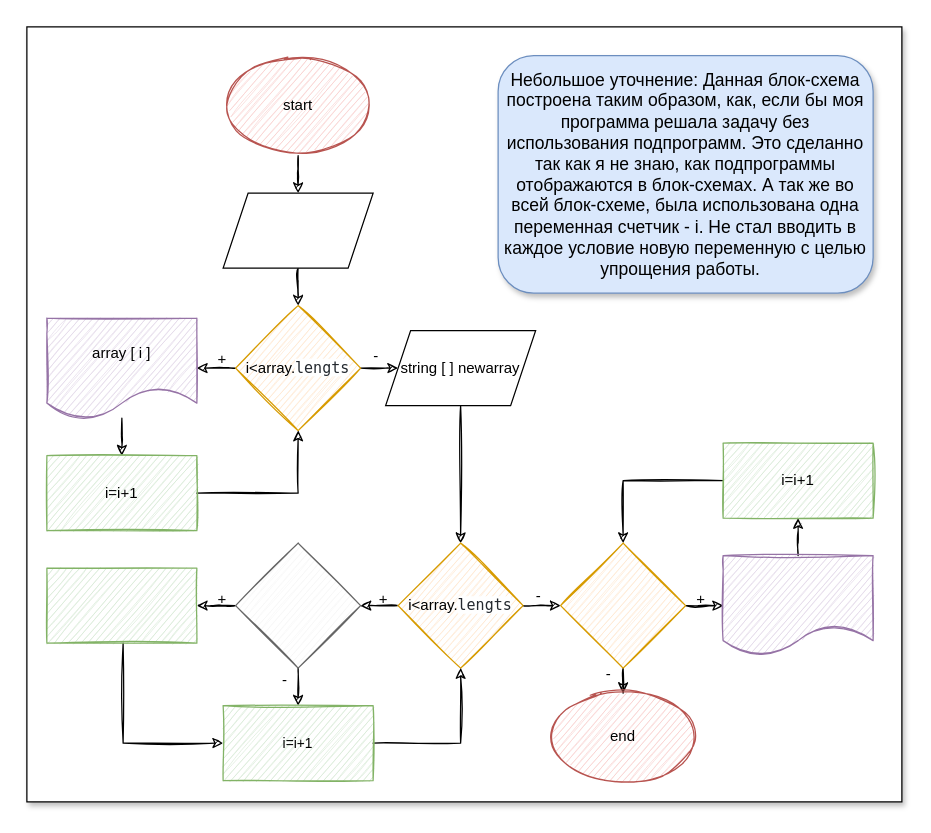
This 931x833 diagram has some shape labels left out. Here are the shapes that lost their labels. From the top down, the centre of each, then its label:
At (297,230): "string [ ] array".
At (121,605): "newaray[ i ] = array [ i ]".
At (297,605): "array[ i ]. lengts <=3".
At (622,605): "i< newarray. lengts".
At (797,605): "newarray [ i ]".
